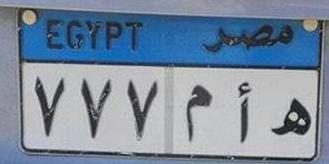7: (77, 74, 116, 143), (124, 76, 160, 141), (32, 72, 66, 140)
alif: (231, 80, 257, 147)
haa: (269, 96, 313, 142)
meem: (181, 80, 214, 144)
